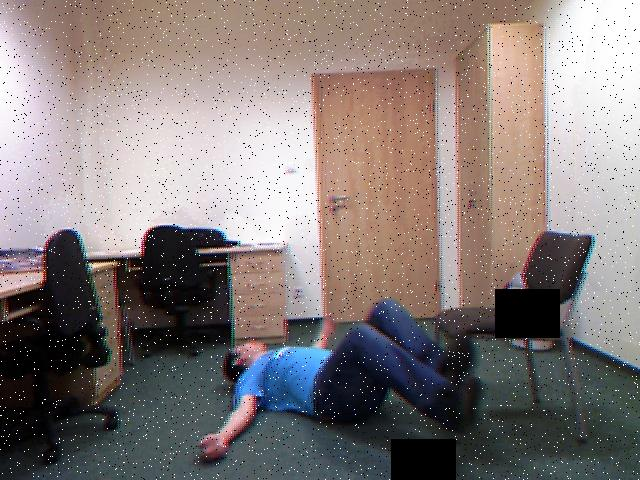fall: (194, 290, 490, 480)
